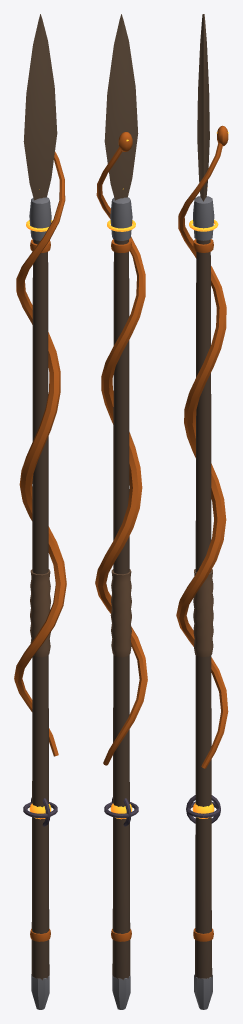
File: fa_coil_of_the_first_serpent.glb
3 renders of one model, left to right at view 1: azimuth 30°, elevation 25°; view 2: azimuth 210°, elevation 25°; view 3: azimuth 270°, elevation 25°, orthographic.
Visible parts, largest first — view 1: fa_coil_of_the_first_serpent; view 2: fa_coil_of_the_first_serpent; view 3: fa_coil_of_the_first_serpent.
Part boxes in pixels (bbox=[...]): fa_coil_of_the_first_serpent: bbox=[14, 14, 66, 1009]; fa_coil_of_the_first_serpent: bbox=[95, 14, 147, 1009]; fa_coil_of_the_first_serpent: bbox=[176, 14, 228, 1009].
Bounding box in the file's own units: 0.1149 × 2.41 × 0.1153.
